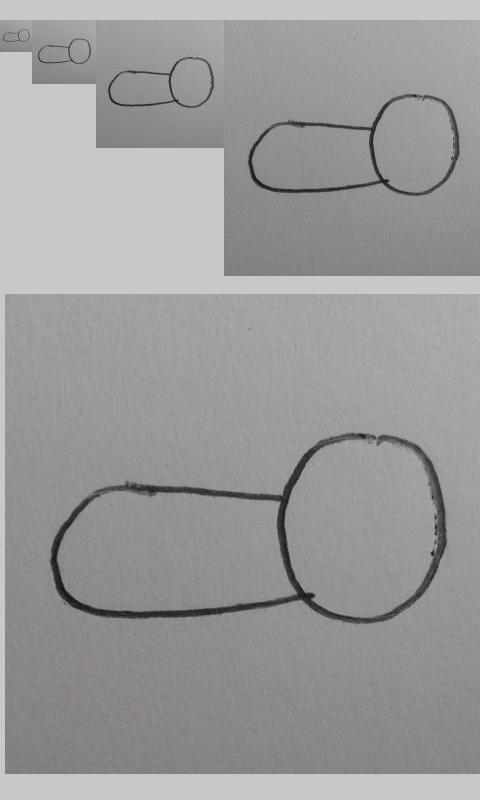switch: (51, 430, 450, 627), (247, 93, 460, 196), (108, 56, 215, 108), (37, 38, 92, 65), (2, 28, 30, 42)
